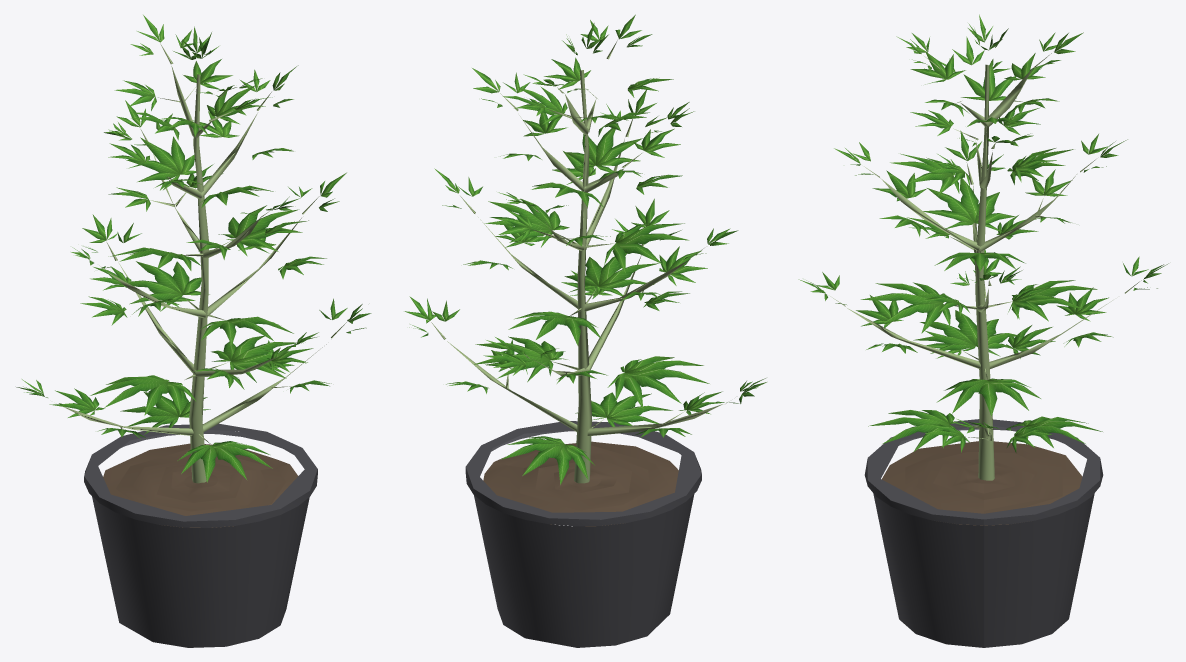
The model's file is zatla-plant-mid.glb.
The picture shows the model from 3 angles, left to right: view 1: azimuth 30°, elevation 25°; view 2: azimuth 150°, elevation 25°; view 3: azimuth 270°, elevation 25°; orthographic projection.
Parts seen in each view (by area): view 1: Zatla_Plant; view 2: Zatla_Plant; view 3: Zatla_Plant.
Boxes of the visible parts, x1,y1,x2,y2 form: Zatla_Plant: (16,15,371,647); Zatla_Plant: (404,14,766,647); Zatla_Plant: (798,14,1168,647).
Size of the model in its own units: 0.6241 by 0.968 by 0.5582.
Materials: 4 (1 with a texture image).
